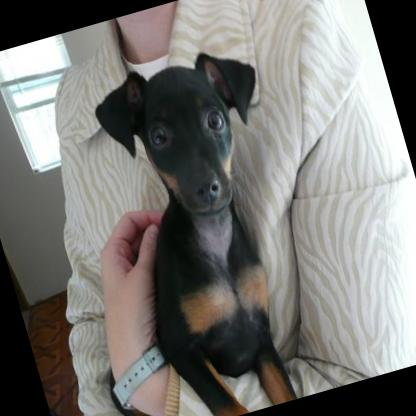miniature_pinscher: (24, 35, 346, 416)
